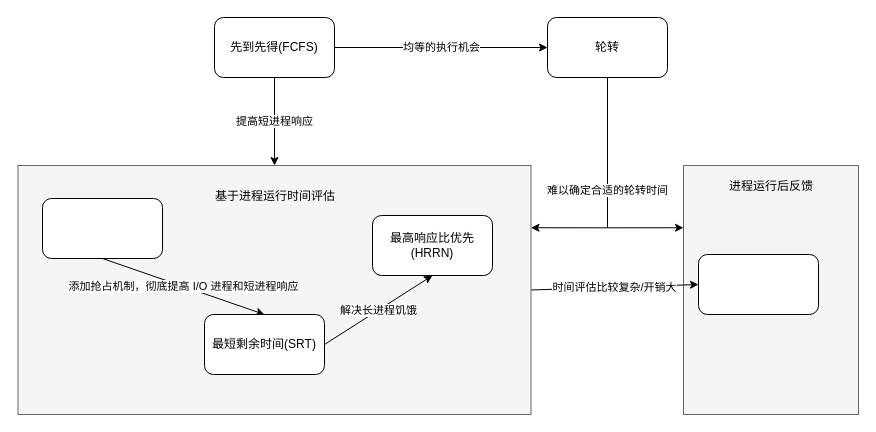
Some shapes in this 876 by 432 pixel diagram are drawn without their labels. Each missing label, with the centre of its shape:
"反馈法" belongs at [758,284].
"最短进程优先(SPN)" belongs at [102,228].
